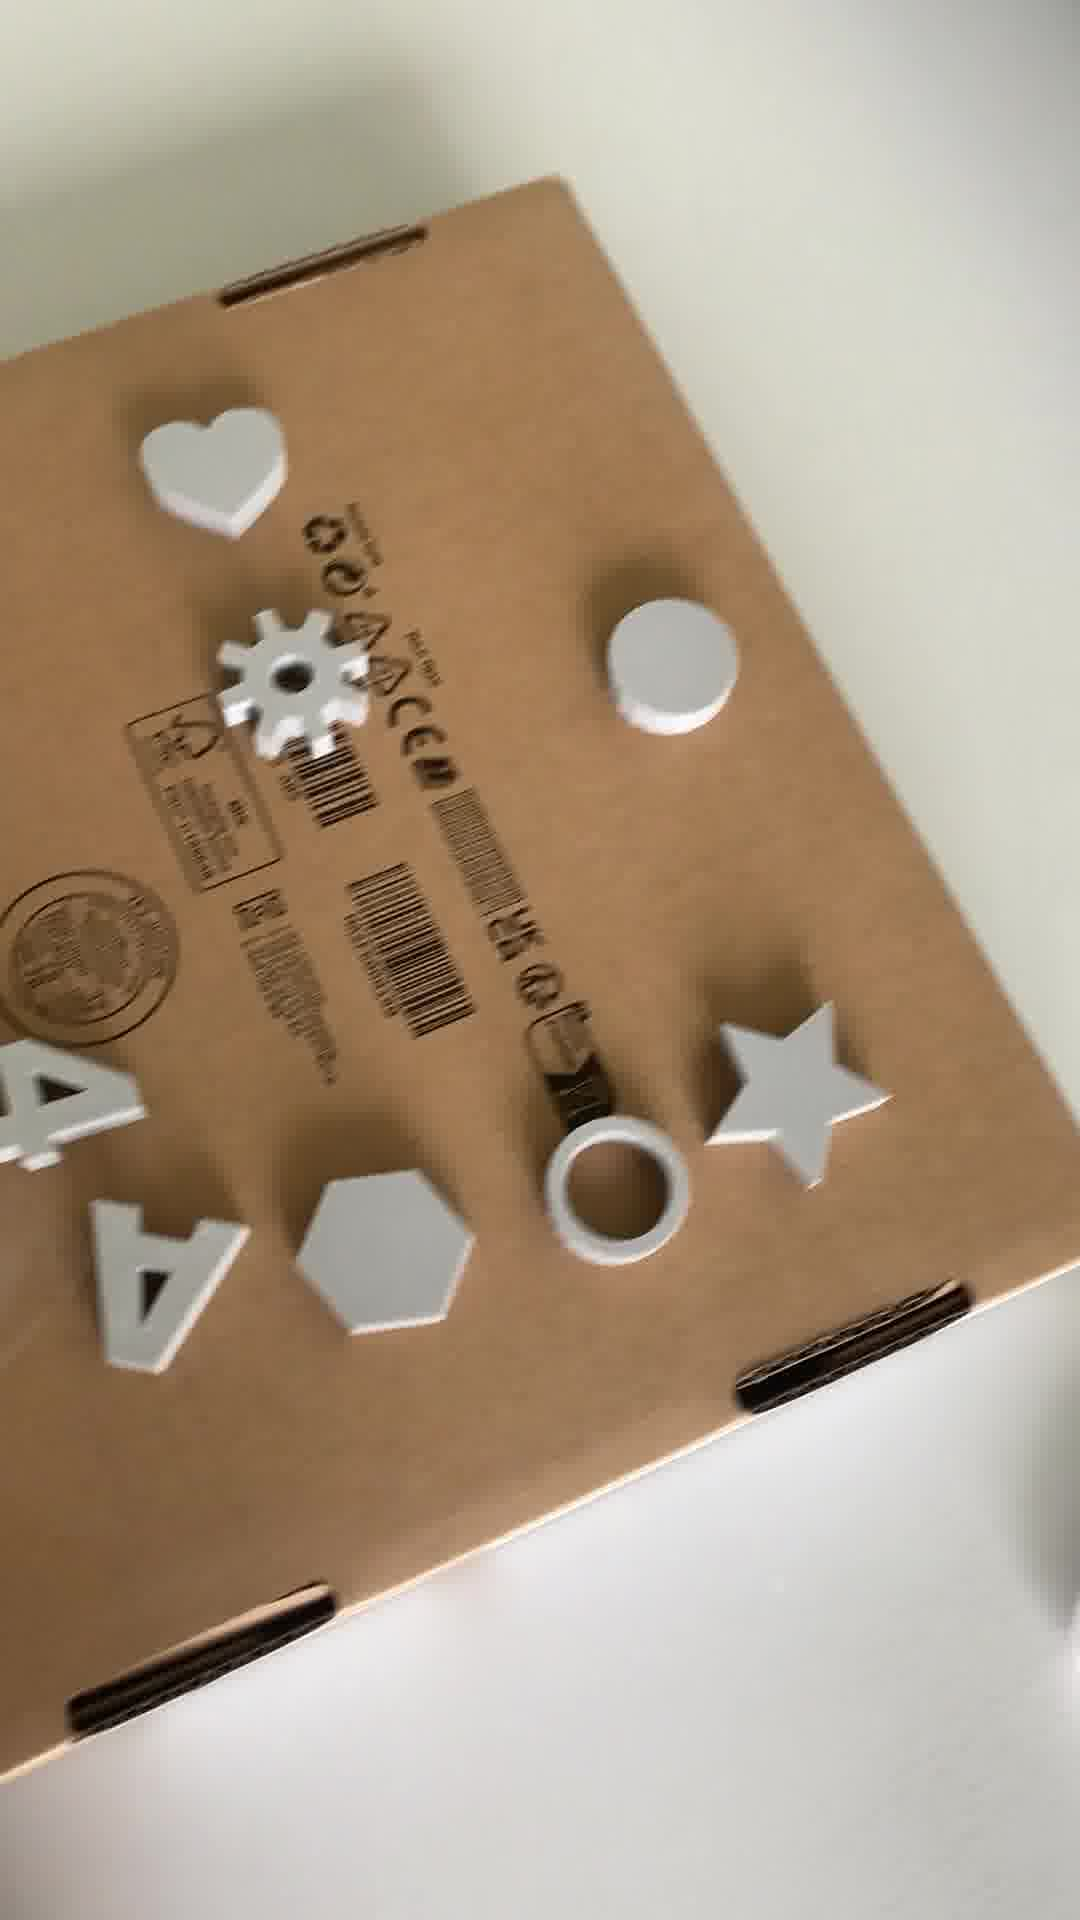Gray A-letter: (82, 1197, 274, 1373)
Gray circle: (604, 599, 752, 746)
Gray four: (1, 1034, 178, 1179)
Gray gear: (214, 622, 376, 767)
Gray heart: (142, 397, 295, 546)
Gray hexagon: (301, 1160, 464, 1346)
Gray ring: (535, 1114, 694, 1284)
Gray star: (707, 1009, 890, 1193)
